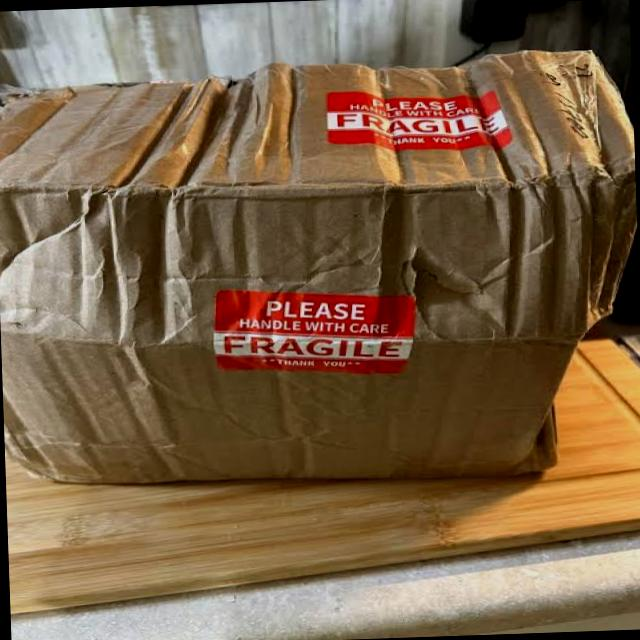fragile_label: (212, 284, 424, 380), (326, 86, 524, 152)
package_damage: (0, 39, 639, 326)
